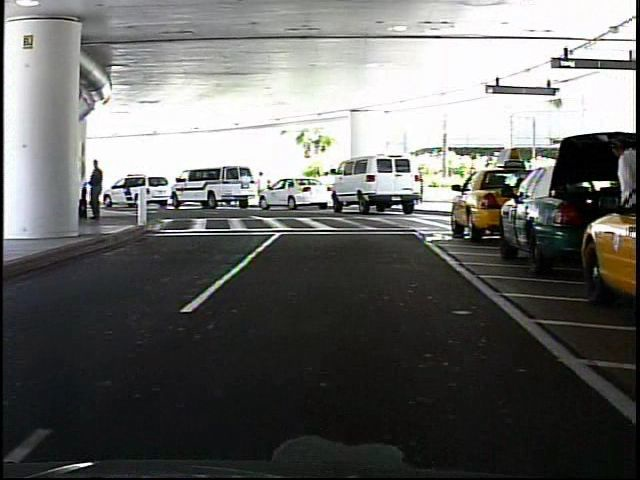person: (595, 132, 639, 284), (90, 157, 109, 224), (255, 170, 271, 206)
